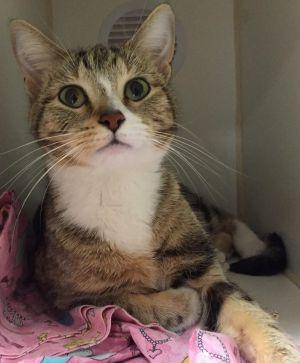bengal: (1, 1, 198, 180)
